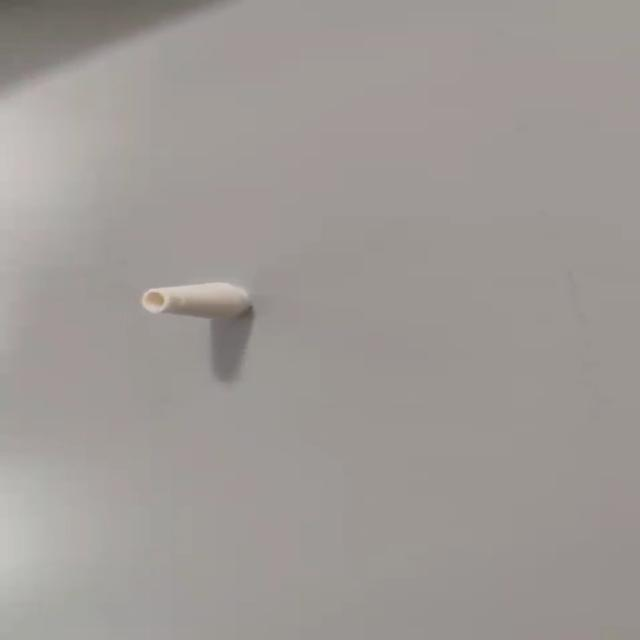Z1x1x1: (136, 278, 262, 324)
